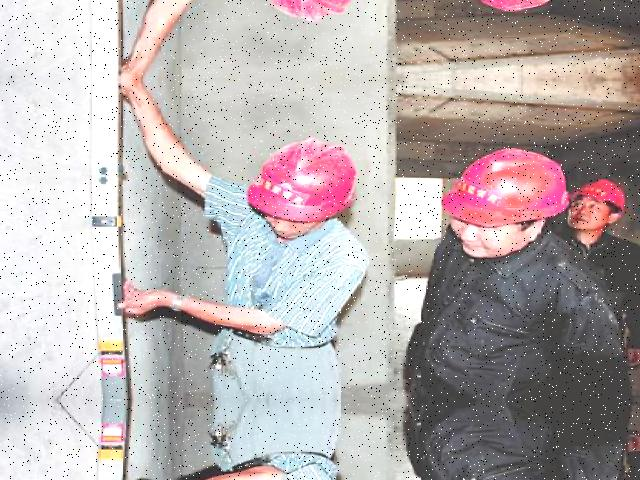Helmet: (436, 139, 574, 235), (242, 134, 358, 224), (567, 174, 630, 217)
